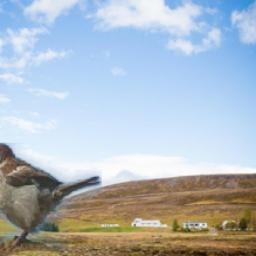Sparrow: (0, 143, 101, 251)
